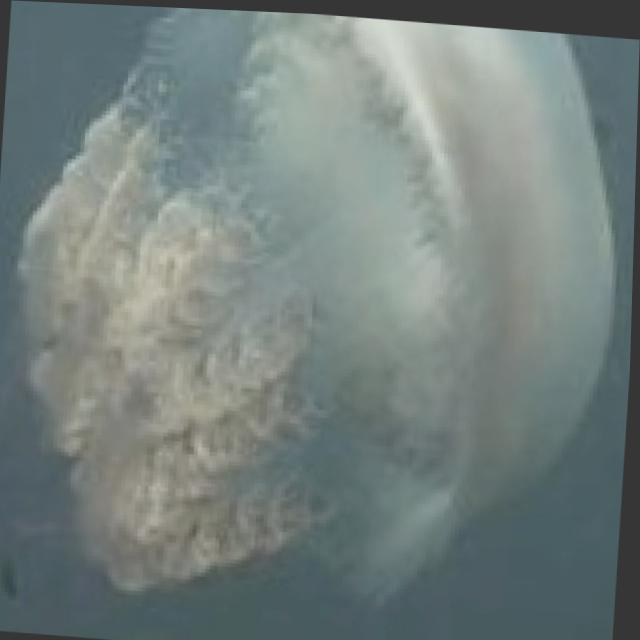Box-jellyfish: (0, 0, 635, 625)
